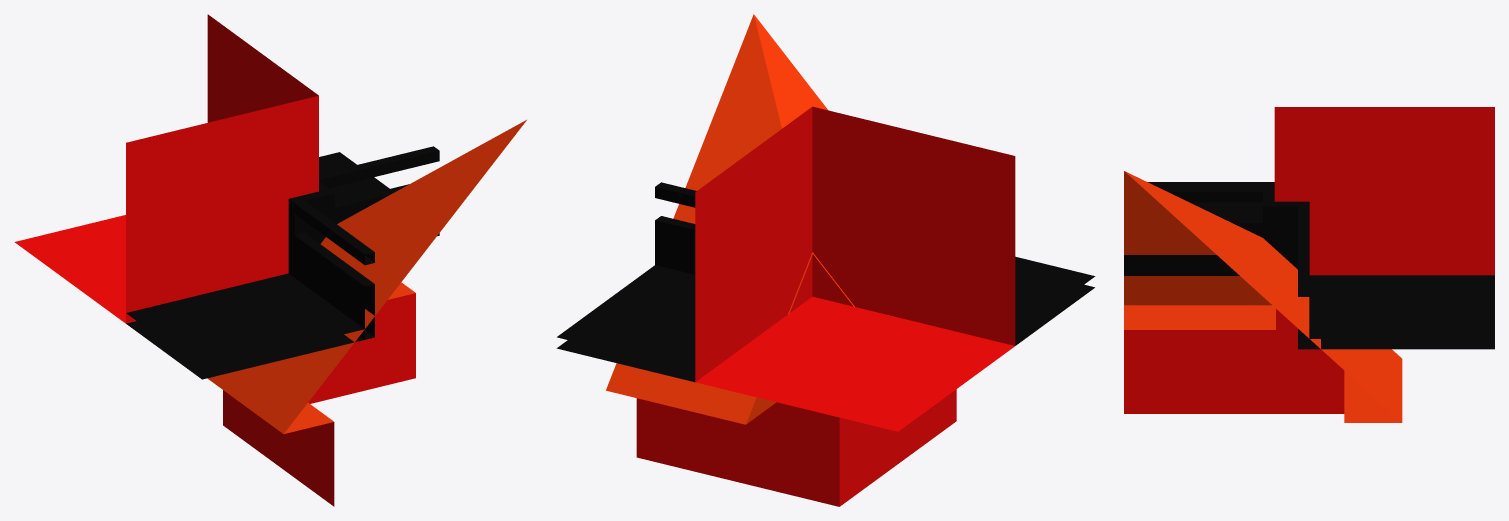
The picture shows the model from 3 angles, left to right: view 1: azimuth 30°, elevation 25°; view 2: azimuth 150°, elevation 25°; view 3: azimuth 270°, elevation 25°; orthographic projection. The views are drawn at different scales.
Visible parts, largest first — view 1: None_P_S_E_E_E_P_A_E_None; view 2: None_P_S_E_E_E_P_A_E_None; view 3: None_P_S_E_E_E_P_A_E_None.
Boxes of the visible parts, x1,y1,x2,y2 form: None_P_S_E_E_E_P_A_E_None: [14, 14, 526, 506]; None_P_S_E_E_E_P_A_E_None: [556, 14, 1095, 506]; None_P_S_E_E_E_P_A_E_None: [1124, 107, 1494, 422].
Size of the model in its own units: 100 by 100 by 100.
